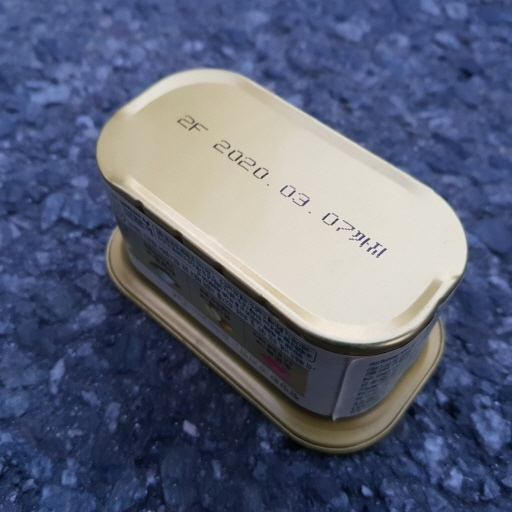Metal_2: (92, 61, 469, 454)
